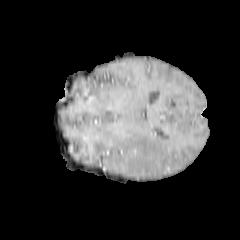glioma: (110, 128, 178, 174)
